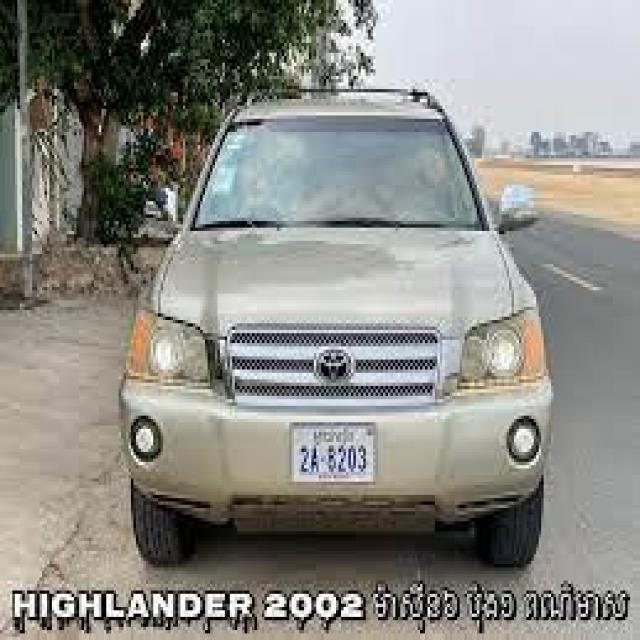Svay_Rieng: (311, 429, 352, 448)
